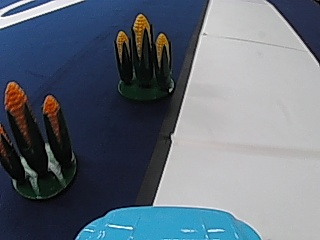corn: (2, 84, 77, 200), (110, 10, 176, 101)
